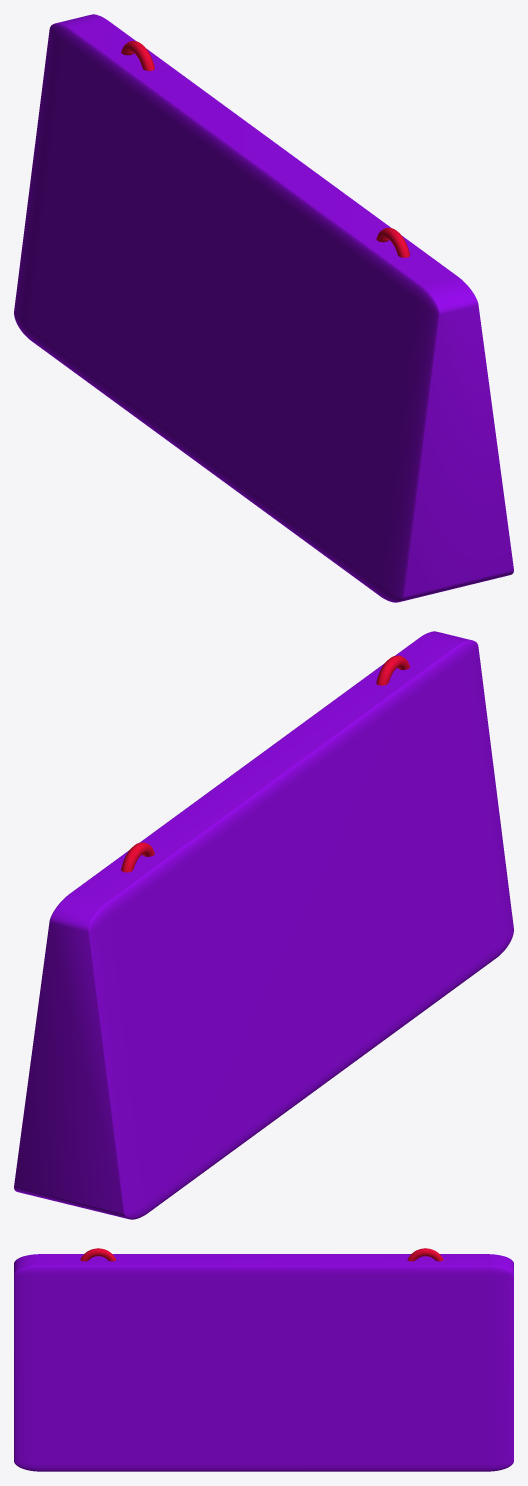
Rendered from Block.fbx.
The picture shows the model from 3 angles, top to bottom: view 1: azimuth 30°, elevation 25°; view 2: azimuth 150°, elevation 25°; view 3: azimuth 270°, elevation 25°; orthographic projection. The views are drawn at different scales.
Parts seen in each view (by area): view 1: Block; view 2: Block; view 3: Block.
Part boxes in pixels (x1,y1,x2,y2): Block: [14, 14, 513, 602]; Block: [14, 631, 513, 1219]; Block: [14, 1248, 513, 1471].
Bounding box in the file's own units: 261 × 669 × 1479.
